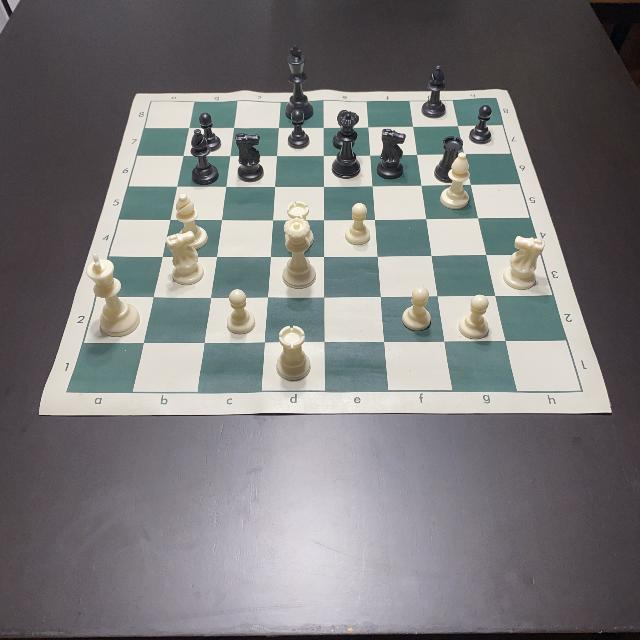black-bishop: (190, 128, 218, 186), (422, 64, 446, 120)
black-king: (286, 45, 314, 122)
black-knight: (376, 128, 406, 178), (236, 134, 264, 182)
black-pawn: (198, 112, 222, 152), (469, 105, 493, 144), (288, 110, 310, 148), (332, 111, 353, 149)
black-queen: (332, 110, 361, 178)
black-rook: (435, 136, 463, 182)
board: (41, 90, 612, 414)
white-bishop: (176, 192, 208, 248), (440, 152, 470, 210)
white-king: (86, 253, 140, 337)
white-knight: (502, 237, 544, 290), (166, 232, 204, 284)
white-pawn: (226, 290, 256, 334), (402, 286, 432, 330), (459, 295, 488, 339), (346, 202, 370, 245)
white-queen: (282, 218, 316, 288)
white-rook: (276, 325, 310, 381), (284, 202, 314, 246)
